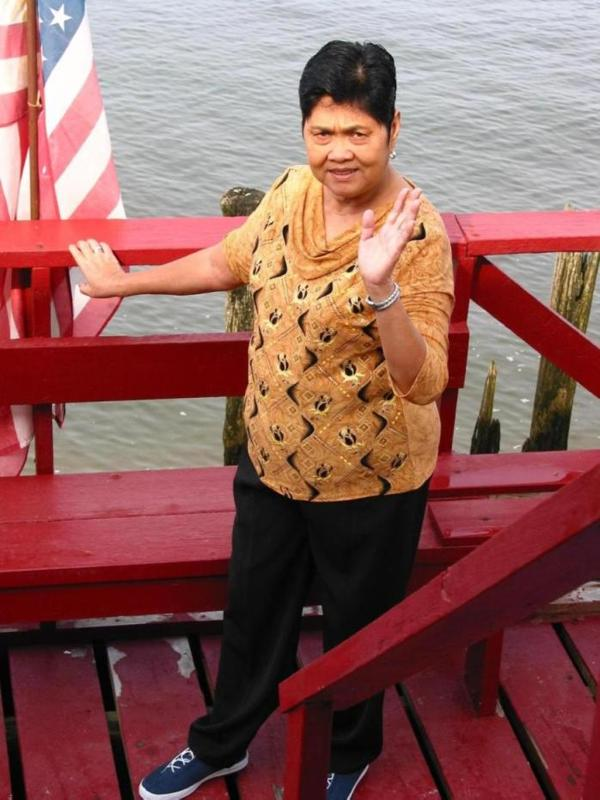person: (69, 39, 453, 799)
